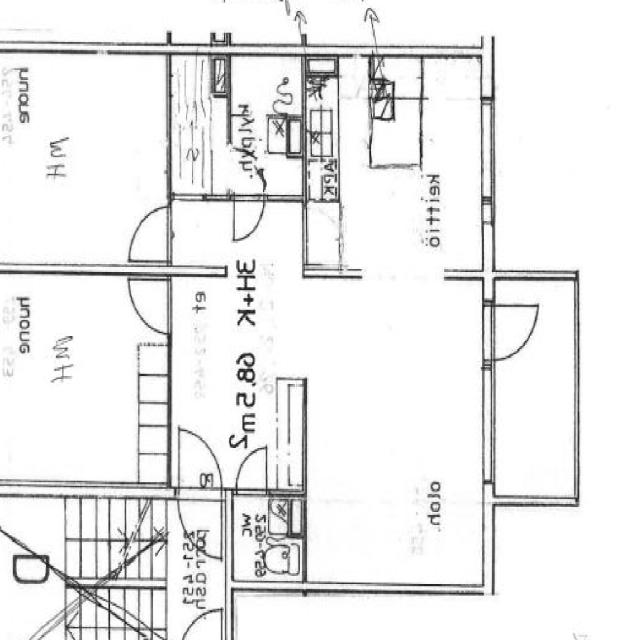door: (178, 487, 222, 556), (178, 429, 222, 498), (483, 306, 534, 360), (127, 280, 172, 334), (127, 207, 172, 261), (227, 146, 265, 191), (234, 195, 264, 241), (237, 448, 266, 494)
